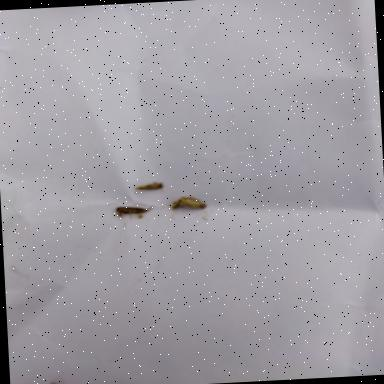pbw: (168, 192, 206, 210), (114, 202, 156, 218), (134, 182, 163, 190)
